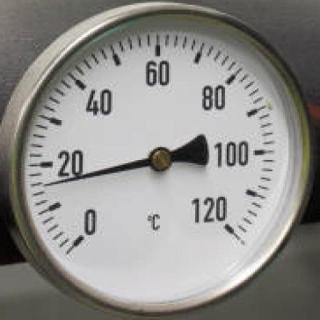gauge: (0, 0, 320, 320), (184, 194, 248, 255), (60, 205, 114, 262), (147, 145, 173, 175), (39, 177, 57, 191)
